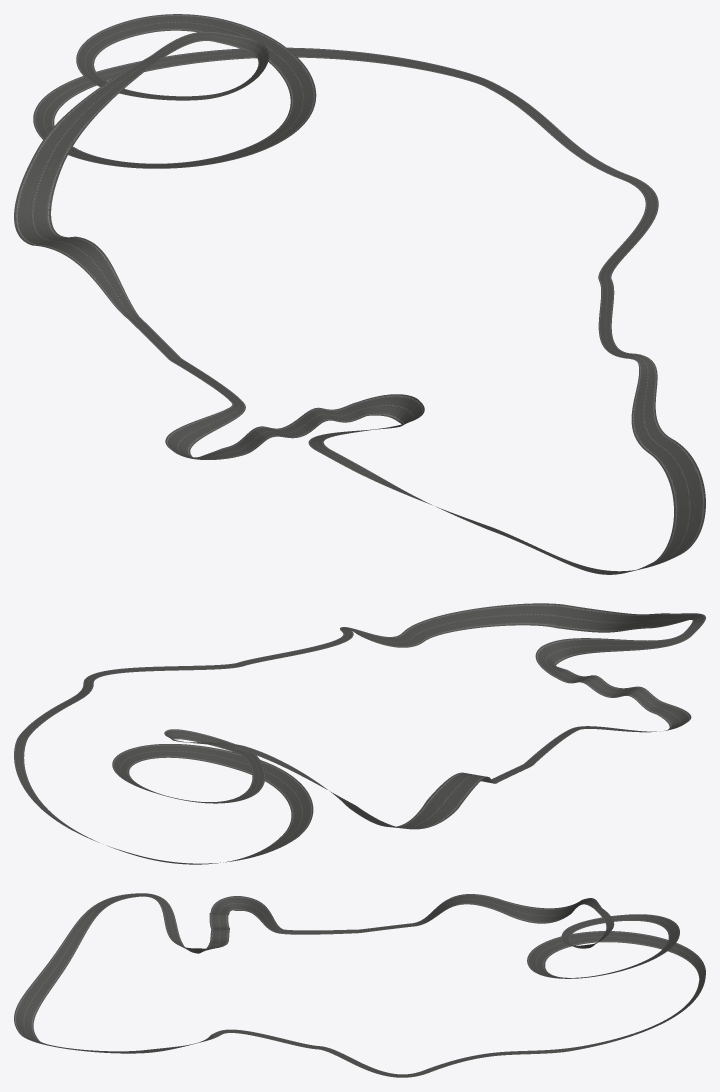
The model's file is SM_road_temp.fbx.
3 renders of one model, top to bottom at view 1: azimuth 30°, elevation 25°; view 2: azimuth 150°, elevation 25°; view 3: azimuth 270°, elevation 25°, orthographic. The views are drawn at different scales.
Parts seen in each view (by area): view 1: SM_road_temp; view 2: SM_road_temp; view 3: SM_road_temp.
Boxes of the visible parts, left/top/right/bottom form: SM_road_temp: left=14, top=14, right=705, bottom=574; SM_road_temp: left=14, top=603, right=705, bottom=864; SM_road_temp: left=14, top=893, right=705, bottom=1077.
Bounding box in the file's own units: 608 × 946 × 181.
Materials: 1 (1 with a texture image).
